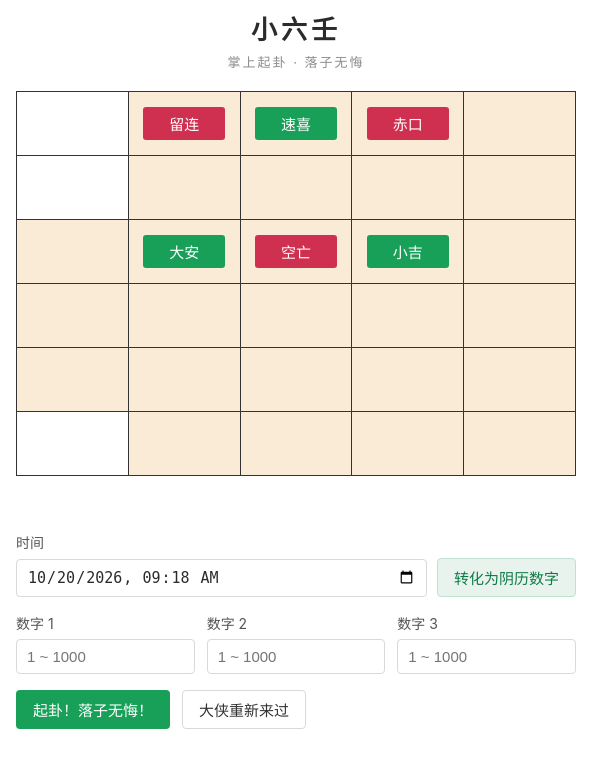
XiaoLiuRen › 正月初一可以换算（旧实现在这里失败）
Replace the text in the field with id "when" with "2024-02-10T10:00" at (222, 578), box [16,558,427,596]
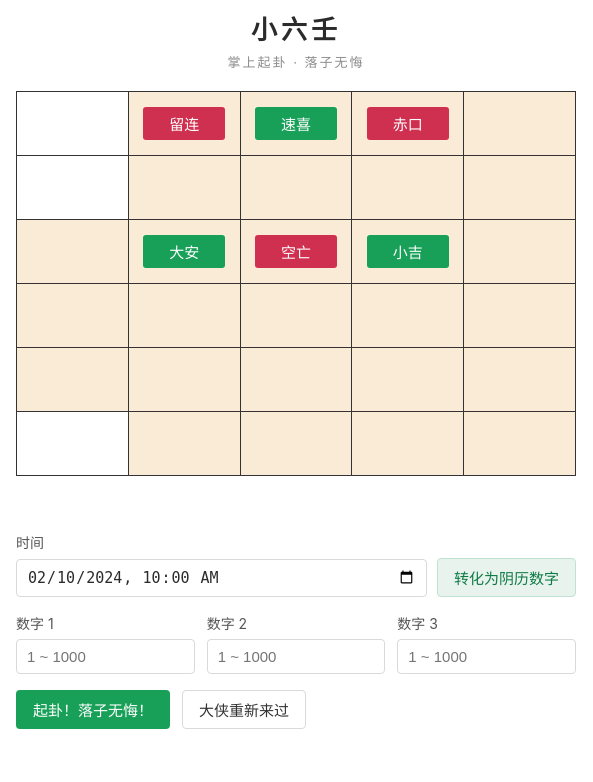
Click the button with class "btn--info" at (506, 578), box [437,558,576,597]
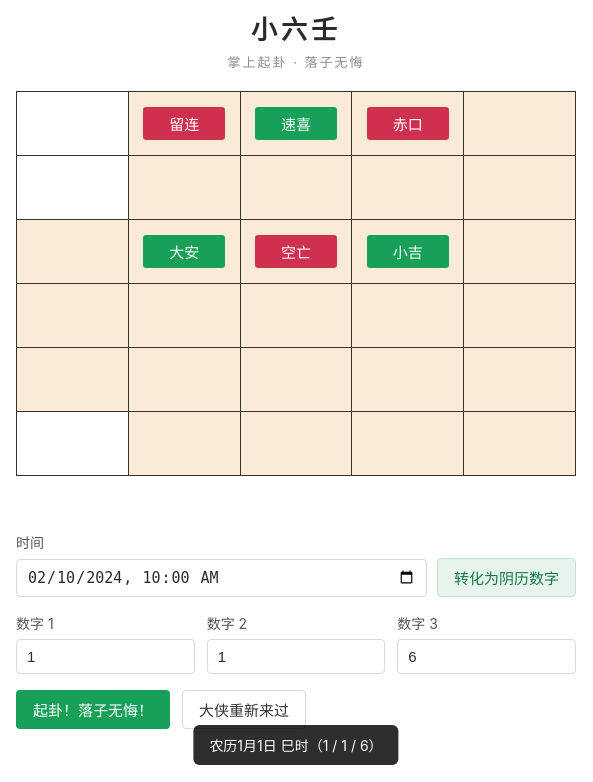
Expected: the message with class "toast" shows "农历1月1日", [209,737,383,754]
